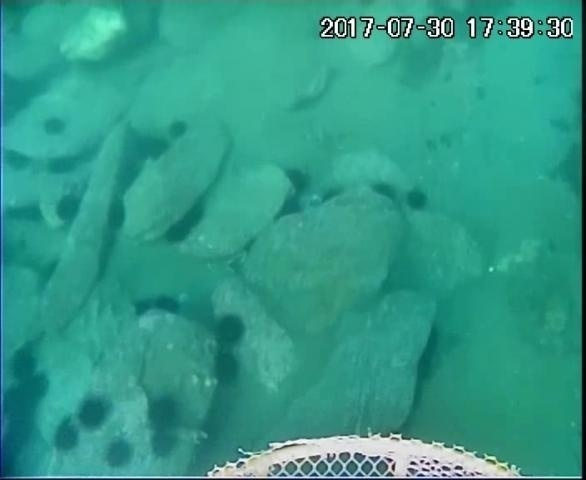echinus: (124, 130, 173, 168), (144, 392, 185, 434), (177, 290, 219, 331), (74, 393, 114, 434), (5, 344, 42, 387), (211, 311, 249, 349), (111, 156, 147, 195), (209, 350, 244, 389), (51, 190, 86, 229), (49, 417, 83, 456), (368, 178, 405, 213), (101, 436, 137, 471), (280, 165, 315, 199), (272, 192, 308, 225), (160, 217, 197, 248), (147, 428, 181, 461), (102, 196, 130, 236), (22, 370, 53, 404), (44, 152, 81, 179), (402, 185, 432, 216), (39, 114, 70, 141), (1, 145, 31, 172), (410, 348, 433, 381), (165, 117, 192, 144), (424, 320, 446, 353), (184, 199, 209, 227), (129, 292, 152, 316), (153, 294, 178, 316)
